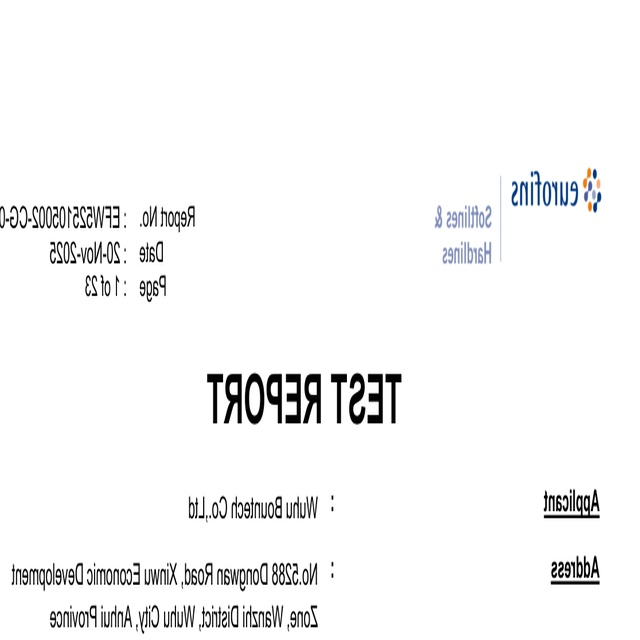eurofins: (503, 163, 613, 216)
